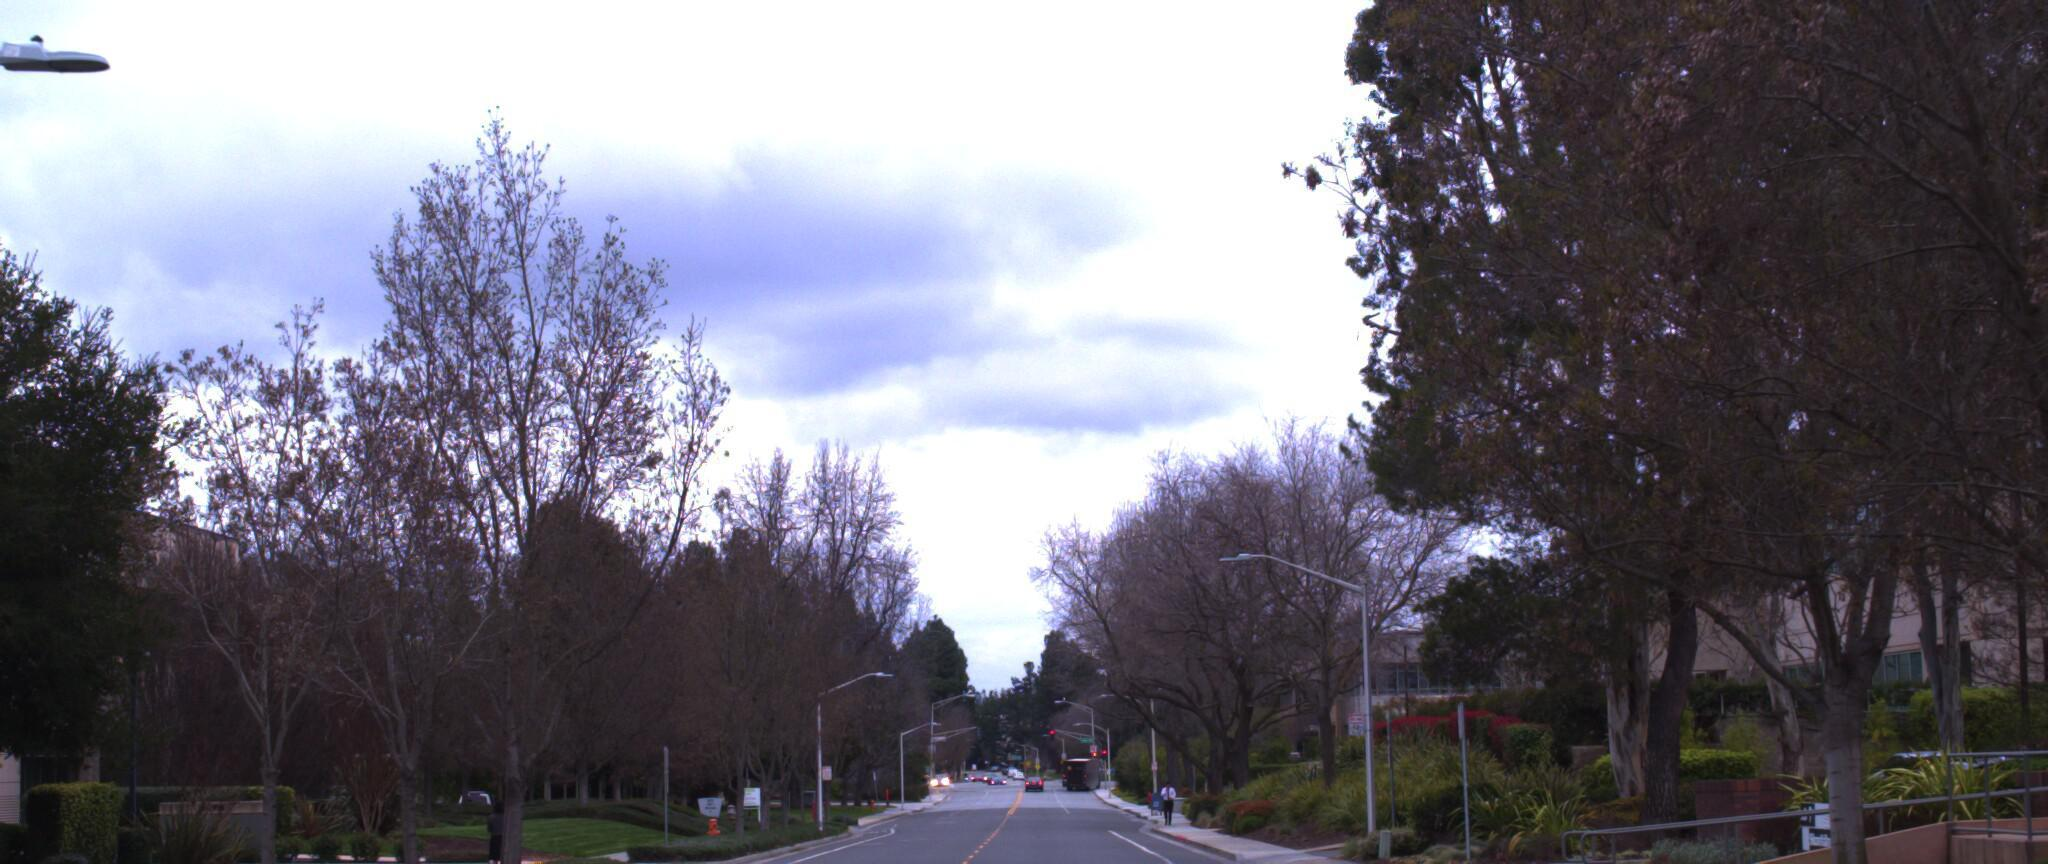car: (0, 841, 202, 864)
